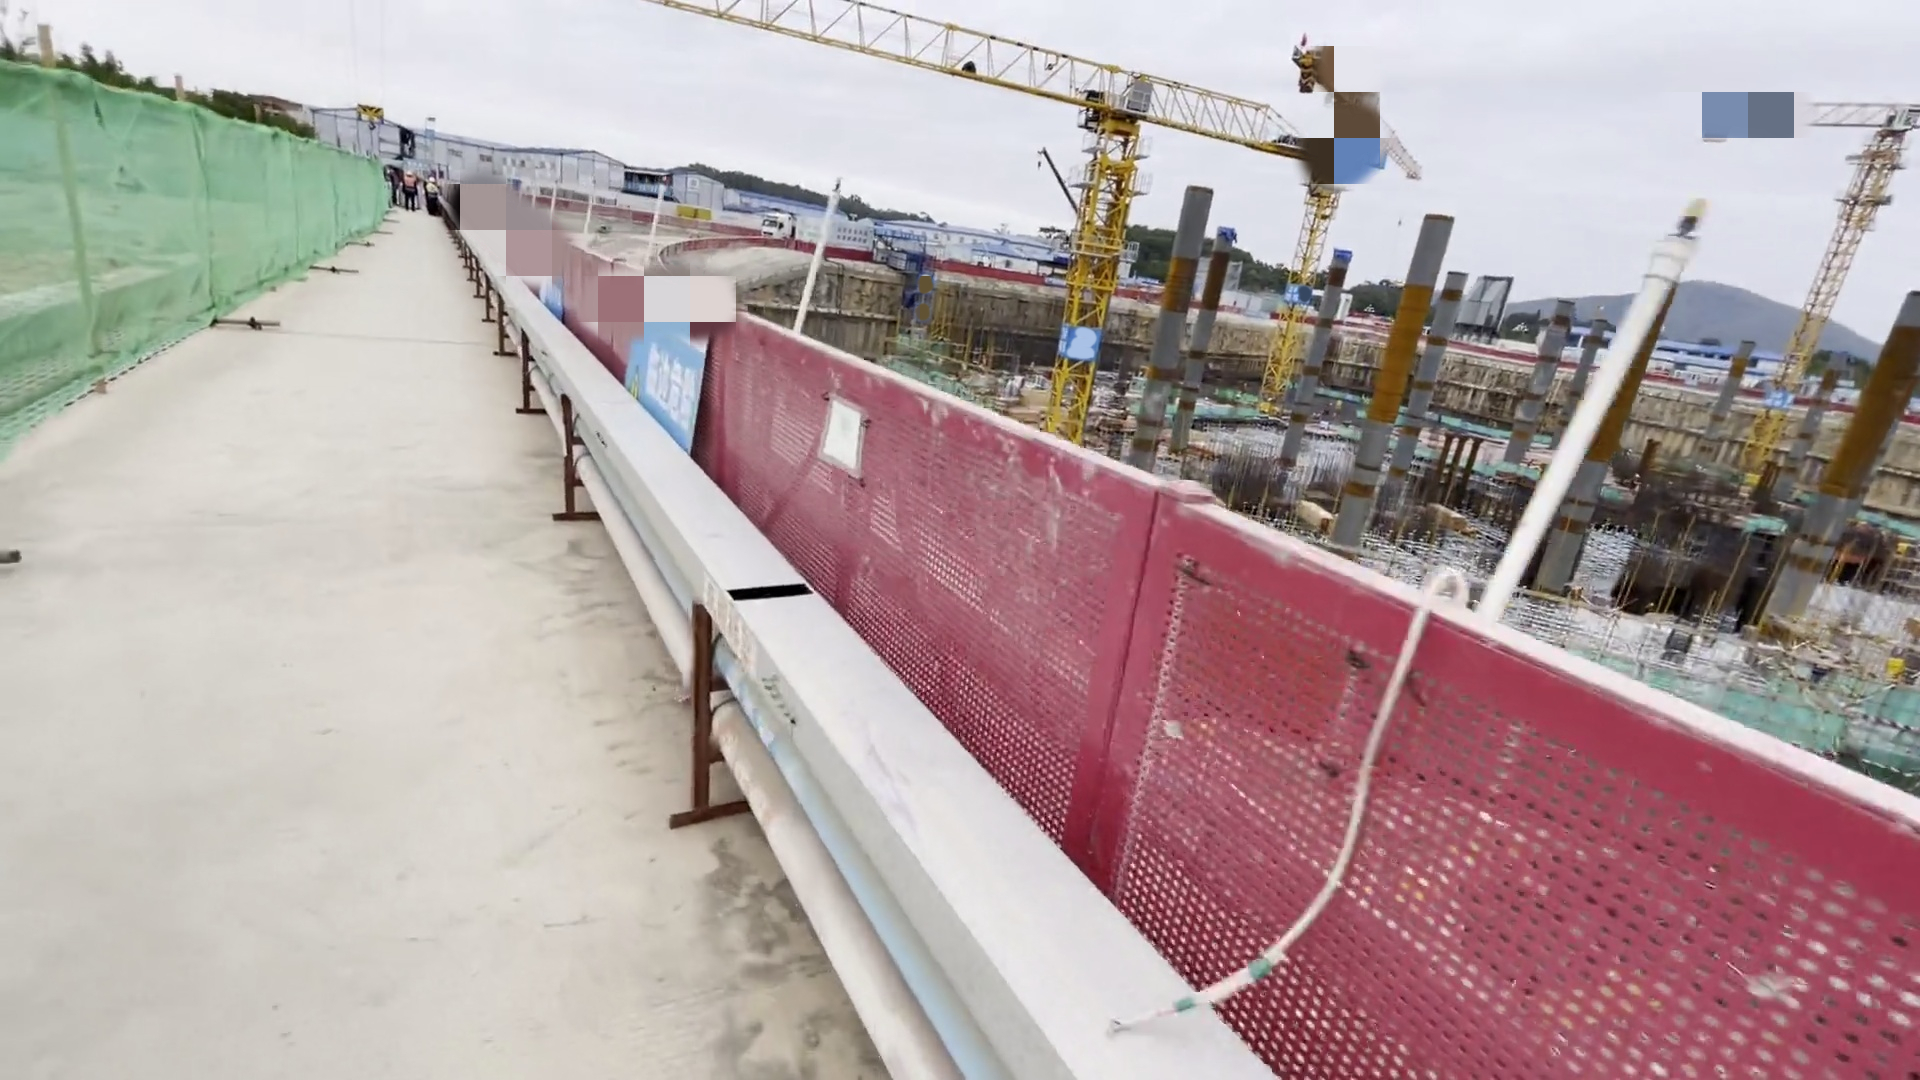fence: (434, 167, 1913, 1059)
hook: (332, 75, 406, 128)
person: (397, 160, 423, 215), (424, 166, 449, 224)
slogan: (605, 292, 712, 442)
